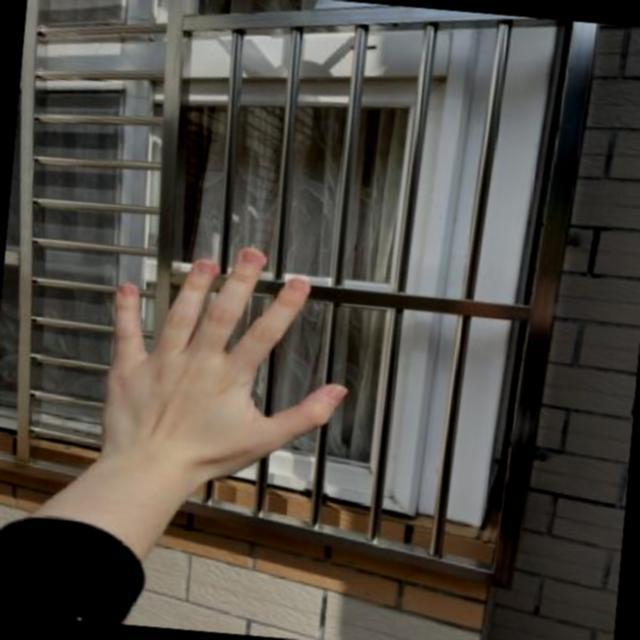hand: (84, 225, 373, 507)
